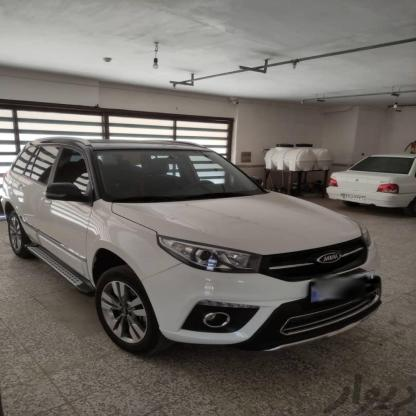Car: (0, 127, 384, 360), (334, 160, 416, 214)
